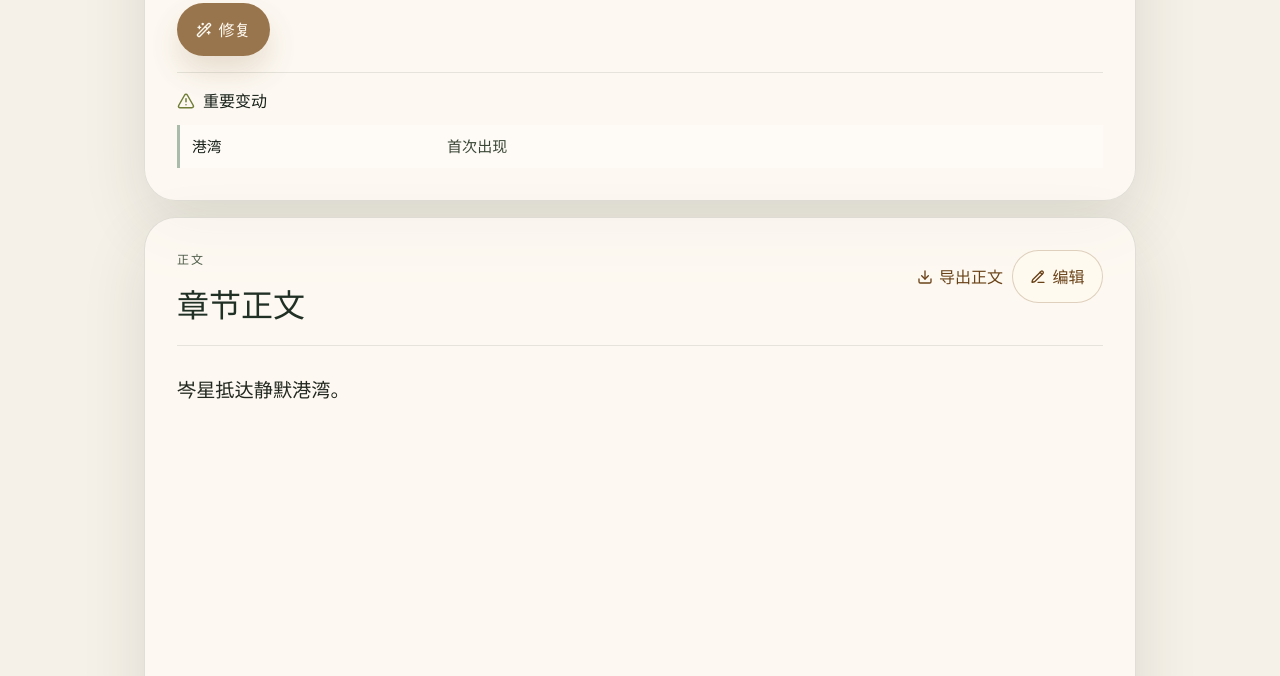
Scenario: chapter text edit can cancel and discard unsaved changes
(page scrolled)
Click the button "编辑".
click(1057, 277)  # box [1012,250,1103,303]
(page scrolled)
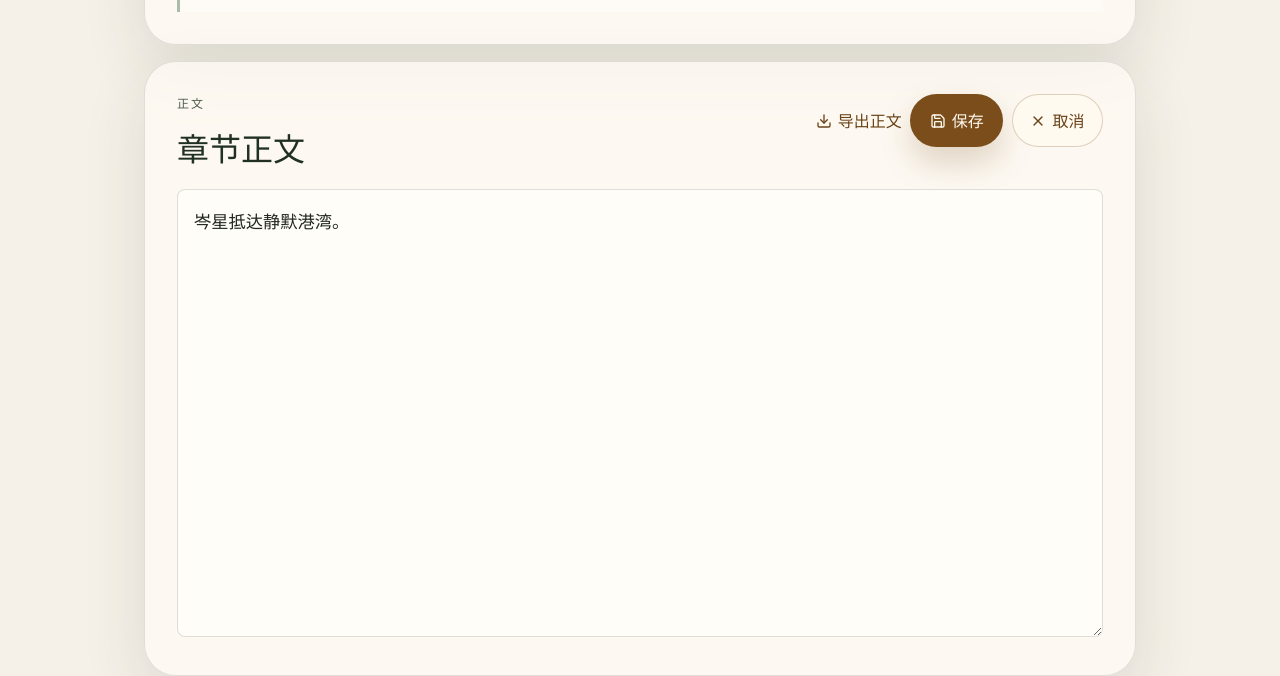
Replace the text in the text box named "章节正文手动编辑" with "临时改动。" at (640, 413), box [177,189,1103,637]
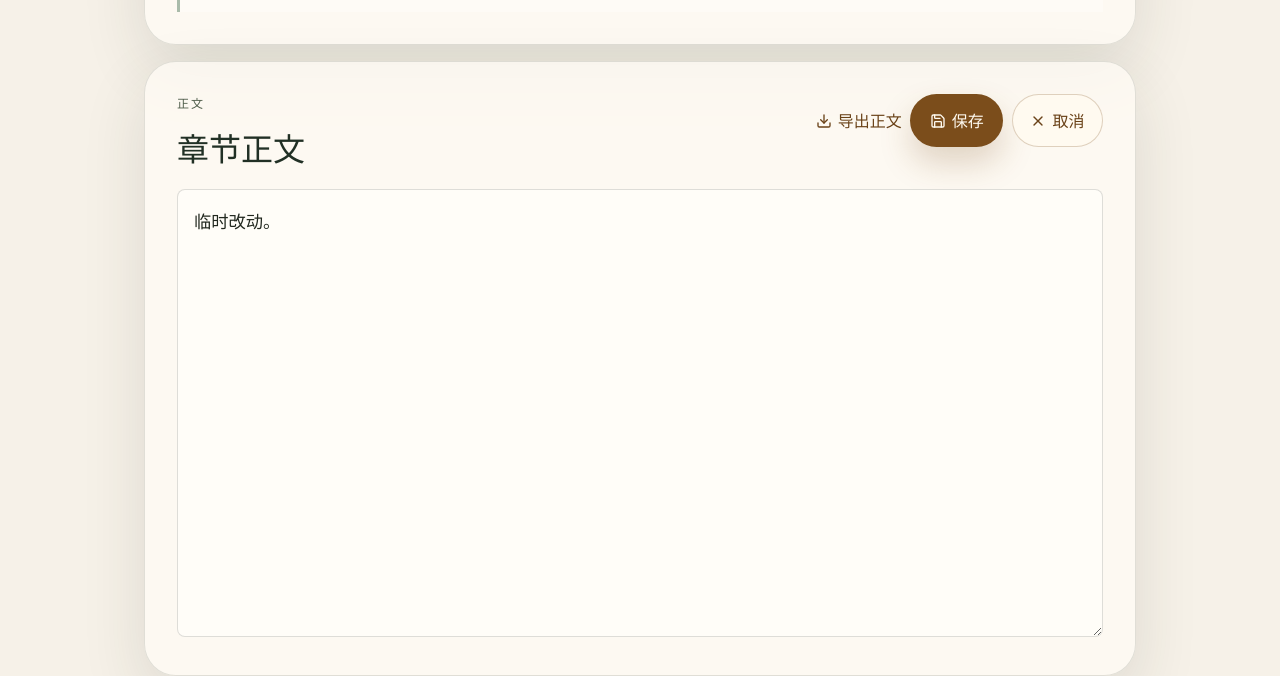
Click the button "取消".
click(1057, 121)  # box [1012,94,1103,147]
(page scrolled)
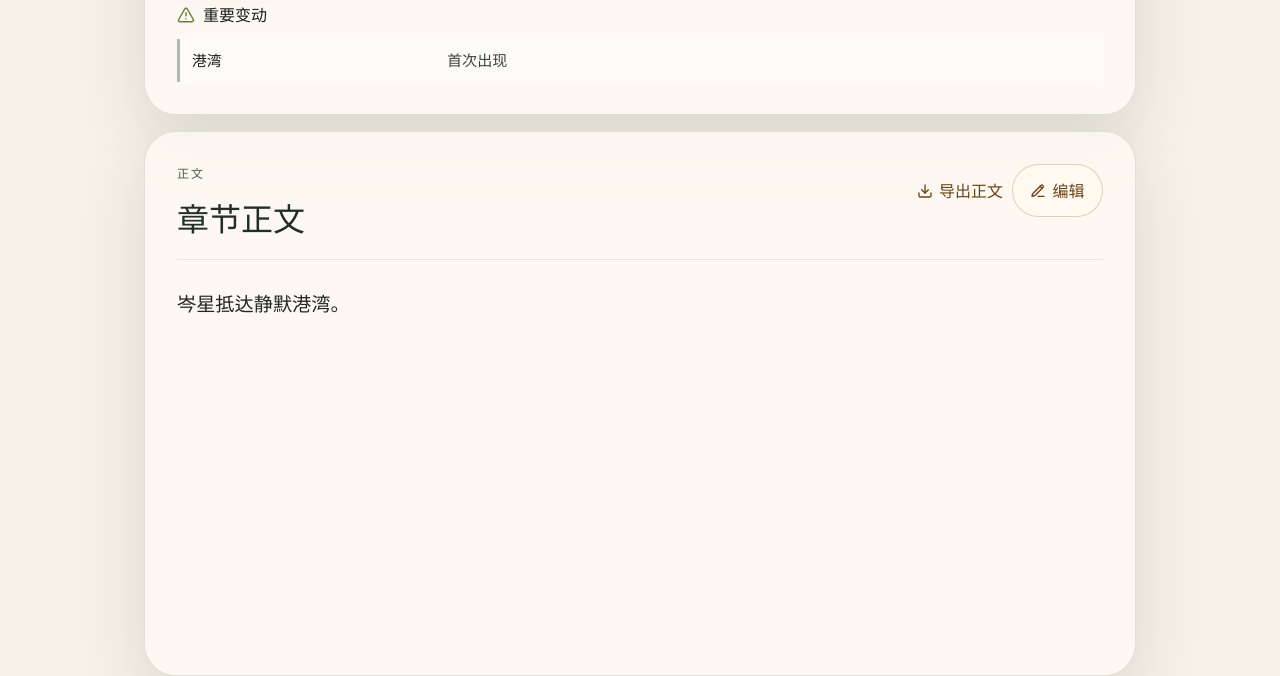
Expected: the text box labelled "章节正文手动编辑" is gone
Expected: the text "岑星抵达静默港湾。" is shown, [177,259,1103,643]
